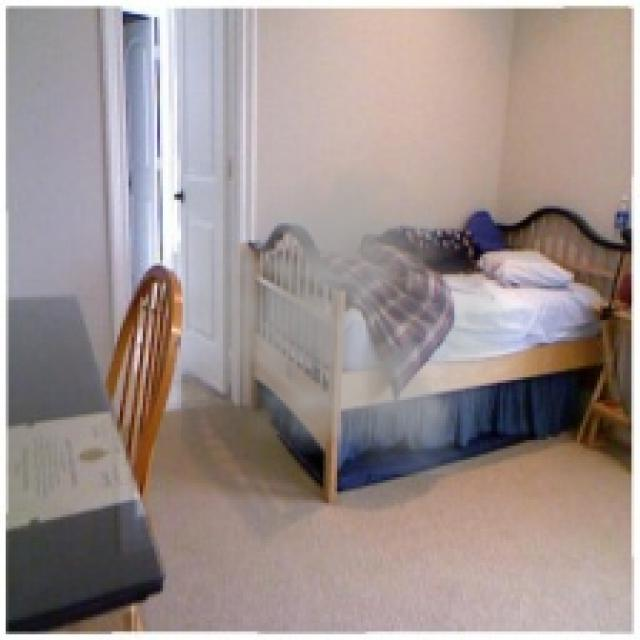smoke: (183, 129, 534, 474)
